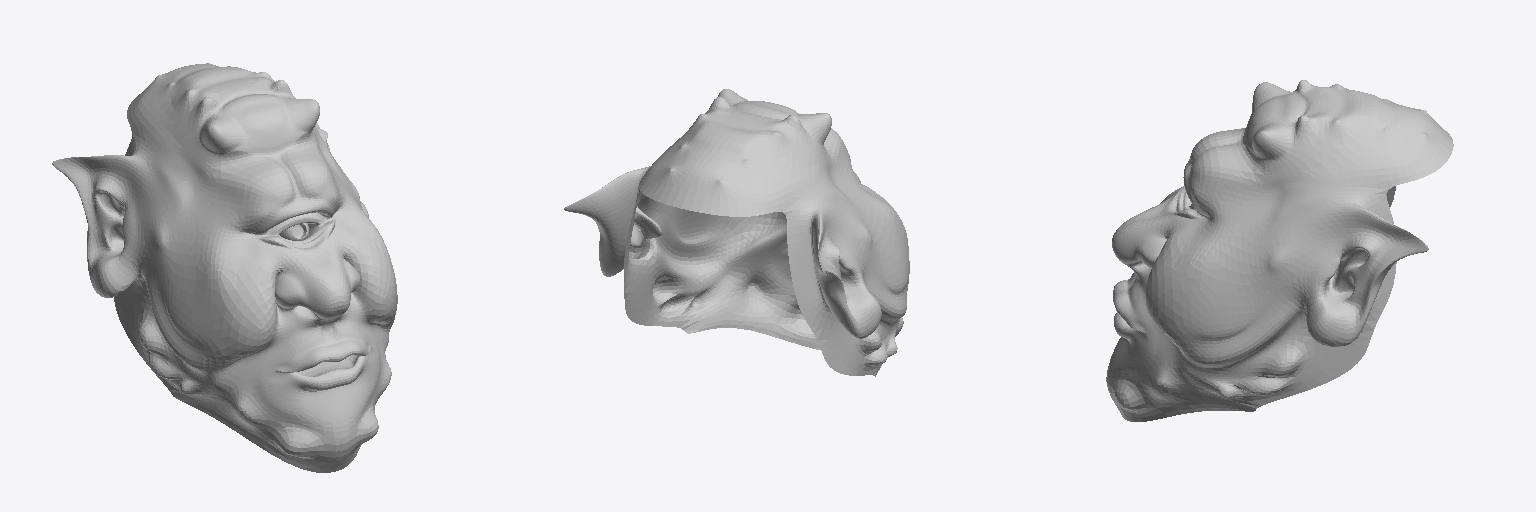
File: ground_truth.obj
The picture shows the model from 3 angles: view 1: azimuth 30°, elevation 25°; view 2: azimuth 150°, elevation 25°; view 3: azimuth 270°, elevation 25°; orthographic projection.
Parts seen in each view (by area): view 1: keenan-ogre; view 2: keenan-ogre; view 3: keenan-ogre.
Boxes of the visible parts, x1=… form: keenan-ogre: x1=52, y1=63, x2=397, y2=472; keenan-ogre: x1=564, y1=89, x2=909, y2=376; keenan-ogre: x1=1106, y1=80, x2=1453, y2=421.
Size of the model in its own units: 1.06 by 1.19 by 1.18.